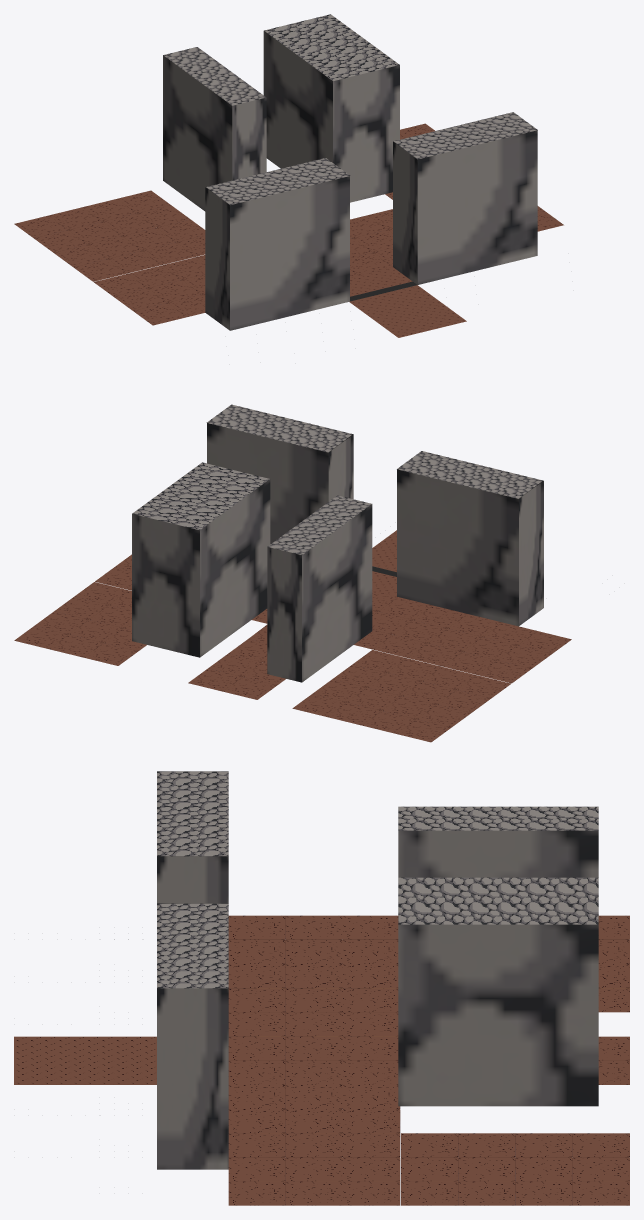
The model's file is blue_nebulae_1.png.import.obj.
The picture shows the model from 3 angles, top to bottom: view 1: azimuth 30°, elevation 25°; view 2: azimuth 150°, elevation 25°; view 3: azimuth 270°, elevation 25°; orthographic projection. The views are drawn at different scales.
Visible parts, largest first — view 1: Default; view 2: Default; view 3: Default.
Part boxes in pixels (left/top/right/bottom): Default: left=14, top=14, right=563, bottom=337; Default: left=14, top=404, right=571, bottom=742; Default: left=14, top=771, right=629, bottom=1205.
Bounding box in the file's own units: 7.68 × 2.55 × 6.89.
Materials: 1 (1 with a texture image).
